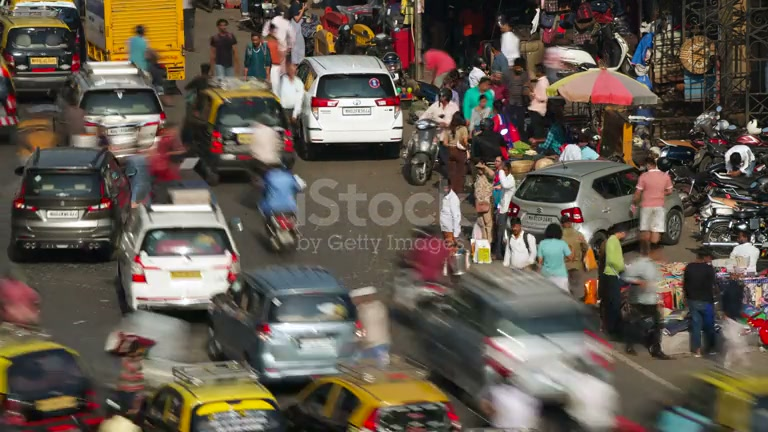car: (204, 263, 363, 388), (509, 159, 687, 250), (8, 145, 132, 263), (114, 205, 242, 315), (290, 54, 403, 160), (508, 158, 641, 244), (0, 322, 104, 429), (139, 359, 290, 431), (186, 83, 290, 184), (52, 61, 167, 151), (0, 53, 20, 144)
motorcycle: (478, 327, 640, 429), (285, 344, 465, 429), (0, 323, 104, 431), (251, 166, 307, 253), (399, 111, 450, 186), (258, 175, 301, 253), (741, 302, 768, 350)
pedestrian: (244, 117, 305, 228), (618, 239, 669, 356), (682, 247, 721, 357), (631, 156, 673, 248), (598, 223, 628, 336), (536, 223, 573, 295), (503, 217, 539, 272), (209, 19, 239, 79), (438, 181, 461, 249), (243, 31, 272, 82)
truck: (81, 2, 189, 86), (0, 2, 87, 101)
